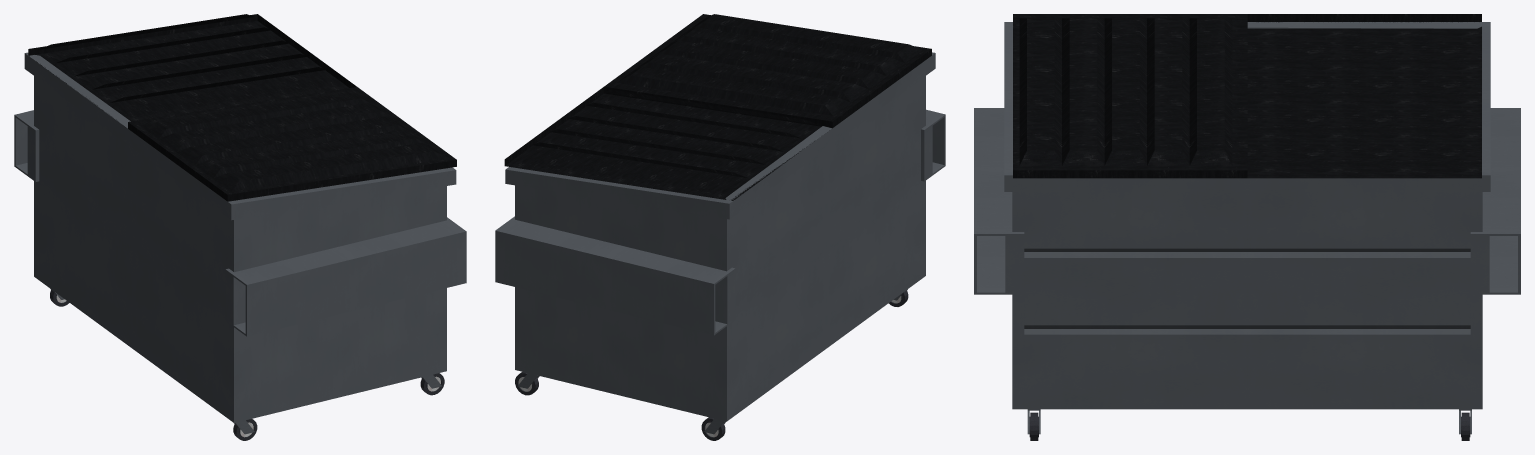
The model's file is dumpster.glb.
3 views of the same model, side by side, from view 1: azimuth 30°, elevation 25°; view 2: azimuth 150°, elevation 25°; view 3: azimuth 270°, elevation 25° (orthographic). The views are drawn at different scales.
Visible parts, largest first — view 1: Cube, Cube.001, Cube.002; view 2: Cube, Cube.001, Cube.002; view 3: Cube, Cube.001, Cube.002.
Boxes of the visible parts, x1,y1,x2,y2 form: Cube: [14, 52, 466, 422]; Cube.001: [128, 87, 456, 201]; Cube.002: [28, 14, 356, 121]; Cube: [495, 52, 945, 421]; Cube.001: [604, 14, 931, 128]; Cube.002: [504, 87, 829, 200]; Cube: [974, 22, 1520, 409]; Cube.001: [1013, 14, 1247, 178]; Cube.002: [1247, 14, 1481, 178].
Size of the model in its own units: 1.31 by 1.43 by 2.3.
Materials: 4 (4 with a texture image).
